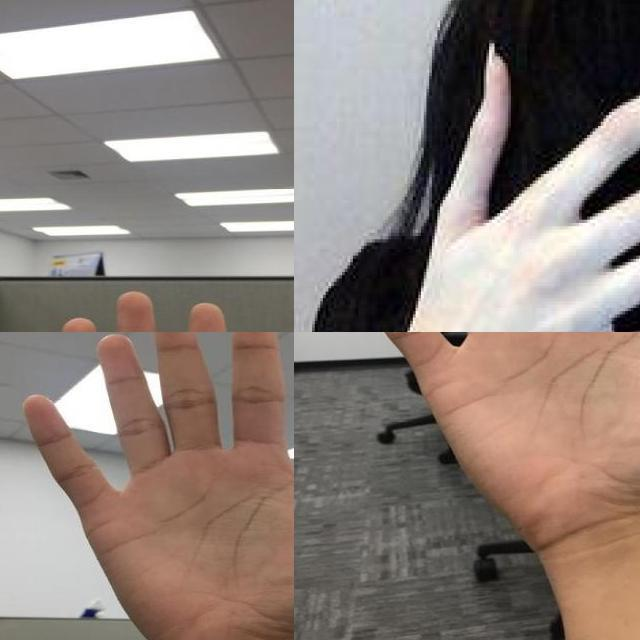no-gloves: (354, 40, 640, 332), (26, 332, 294, 640), (345, 332, 640, 530)
